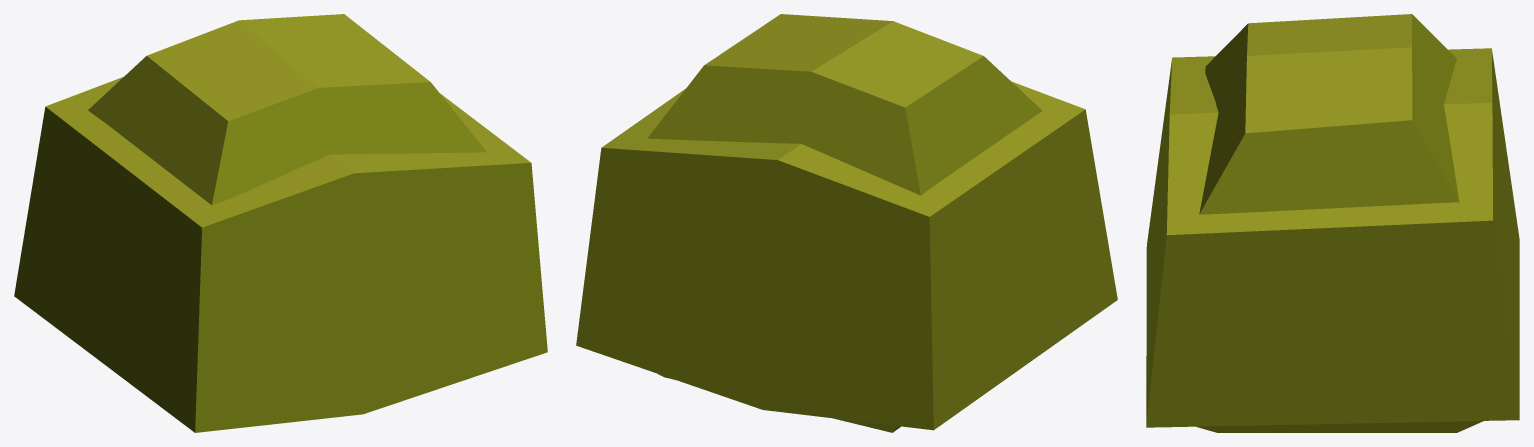
The model's file is SF_Env_Tree_07.fbx.
3 renders of one model, left to right at view 1: azimuth 30°, elevation 25°; view 2: azimuth 150°, elevation 25°; view 3: azimuth 270°, elevation 25°, orthographic. The views are drawn at different scales.
Visible parts, largest first — view 1: SF_Prop_Tree_07; view 2: SF_Prop_Tree_07; view 3: SF_Prop_Tree_07.
Boxes of the visible parts, box(x1,y1,x2,y2) form: SF_Prop_Tree_07: box(14, 14, 547, 432); SF_Prop_Tree_07: box(576, 14, 1117, 432); SF_Prop_Tree_07: box(1146, 14, 1519, 432).
Bounding box in the file's own units: 2.69 × 2.29 × 2.4.
